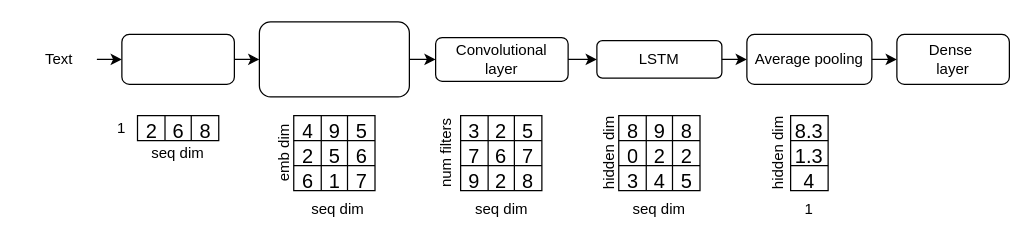
The diagram is 1031 pixels wide and 250 high, and some of its shapes have lost their labels. Here are the shapes that lost their labels. From the top down, the centre of each, then its label:
the point at 177,58: Tokenization
the point at 333,59: Embeddings from pretrained weights
